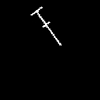double_crochet: (31, 7, 60, 44)
